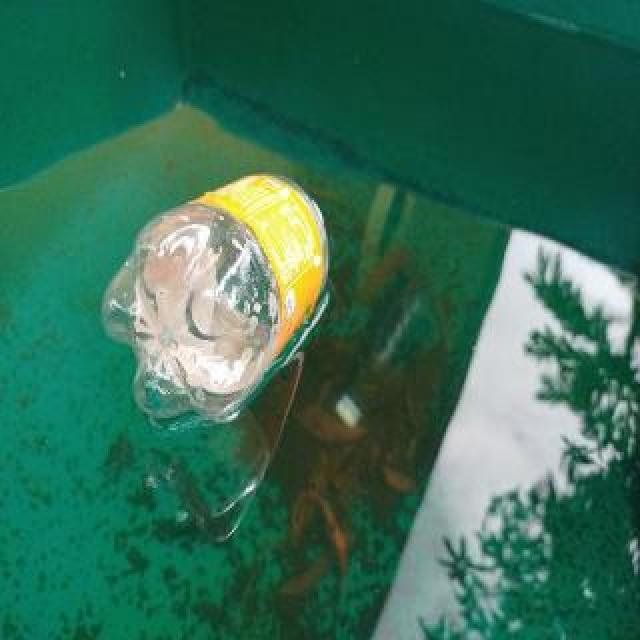Bottle: (92, 160, 344, 436)
